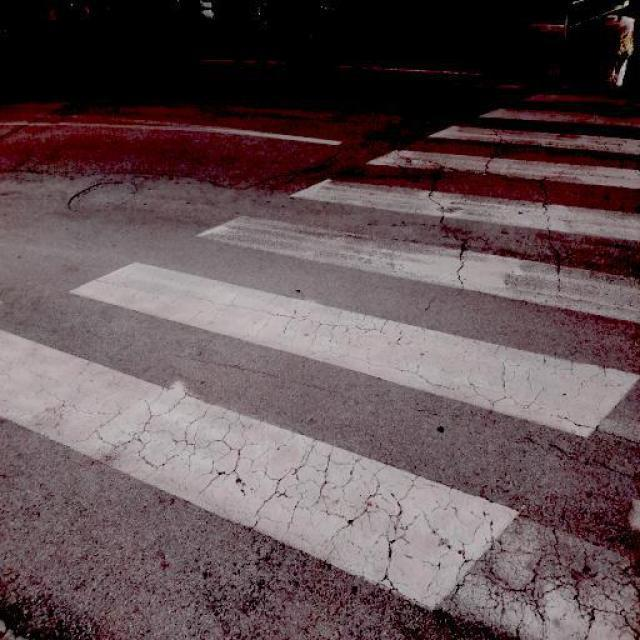crosswalk: (0, 86, 640, 617)
